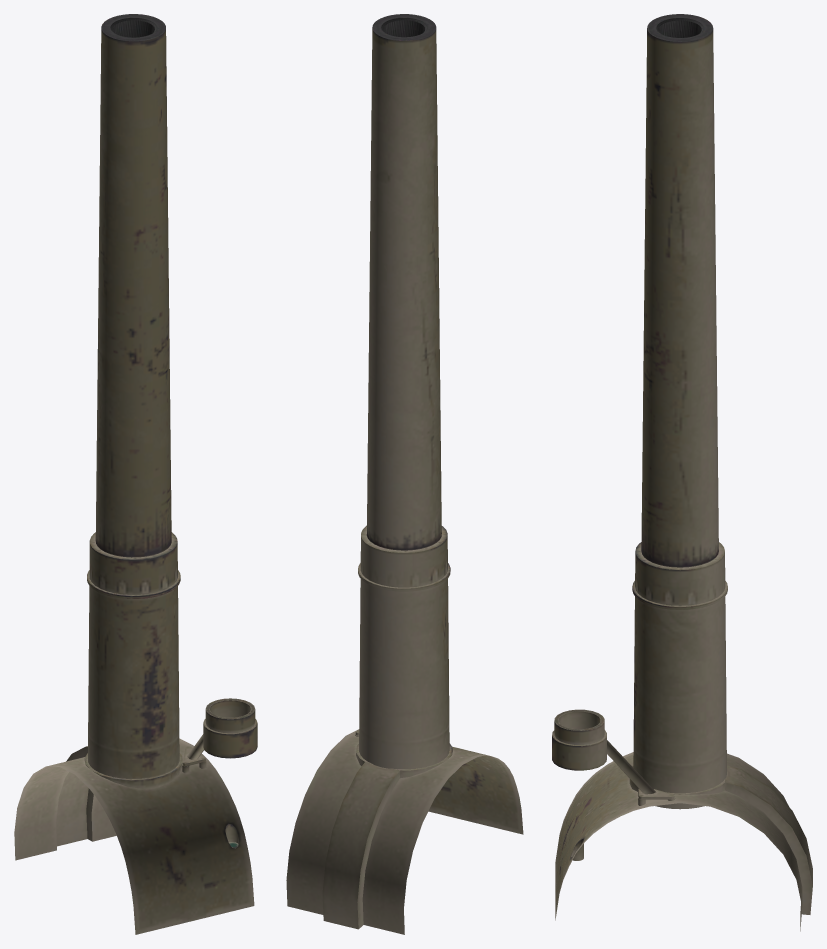
File: Gun_02.glb
The picture shows the model from 3 angles, left to right: view 1: azimuth 30°, elevation 25°; view 2: azimuth 150°, elevation 25°; view 3: azimuth 270°, elevation 25°; orthographic projection. The views are drawn at different scales.
Parts seen in each view (by area): view 1: set_0_group_0; view 2: set_0_group_0; view 3: set_0_group_0.
Boxes of the visible parts, bbox=[...] form: set_0_group_0: bbox=[14, 14, 257, 934]; set_0_group_0: bbox=[286, 14, 523, 934]; set_0_group_0: bbox=[552, 14, 812, 931].
Size of the model in its own units: 0.716 by 4.53 by 1.22.
Materials: 1 (1 with a texture image).
